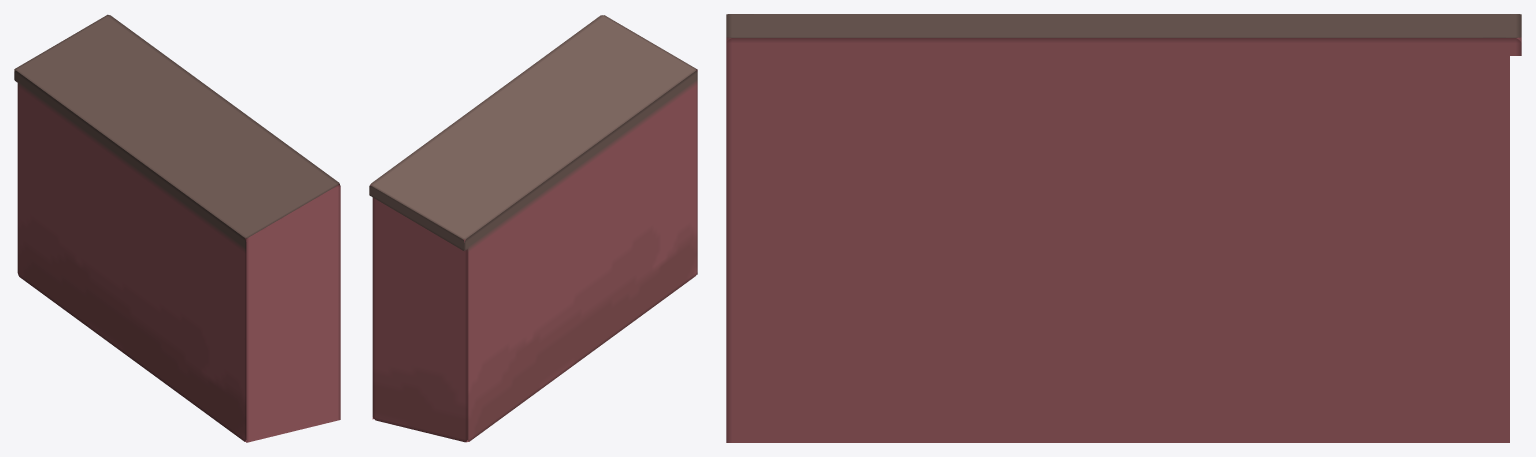
Rendered from BoatSideTable.fbx.
The picture shows the model from 3 angles, left to right: view 1: azimuth 30°, elevation 25°; view 2: azimuth 150°, elevation 25°; view 3: azimuth 270°, elevation 25°; orthographic projection. The views are drawn at different scales.
Visible parts, largest first — view 1: ExtraTable; view 2: ExtraTable; view 3: ExtraTable.
Part boxes in pixels (x1=…): ExtraTable: x1=14, y1=14, x2=340, y2=442; ExtraTable: x1=369, y1=15, x2=697, y2=442; ExtraTable: x1=726, y1=14, x2=1521, y2=442.
Size of the model in its own units: 100 by 239 by 425.
Materials: 1 (1 with a texture image).
